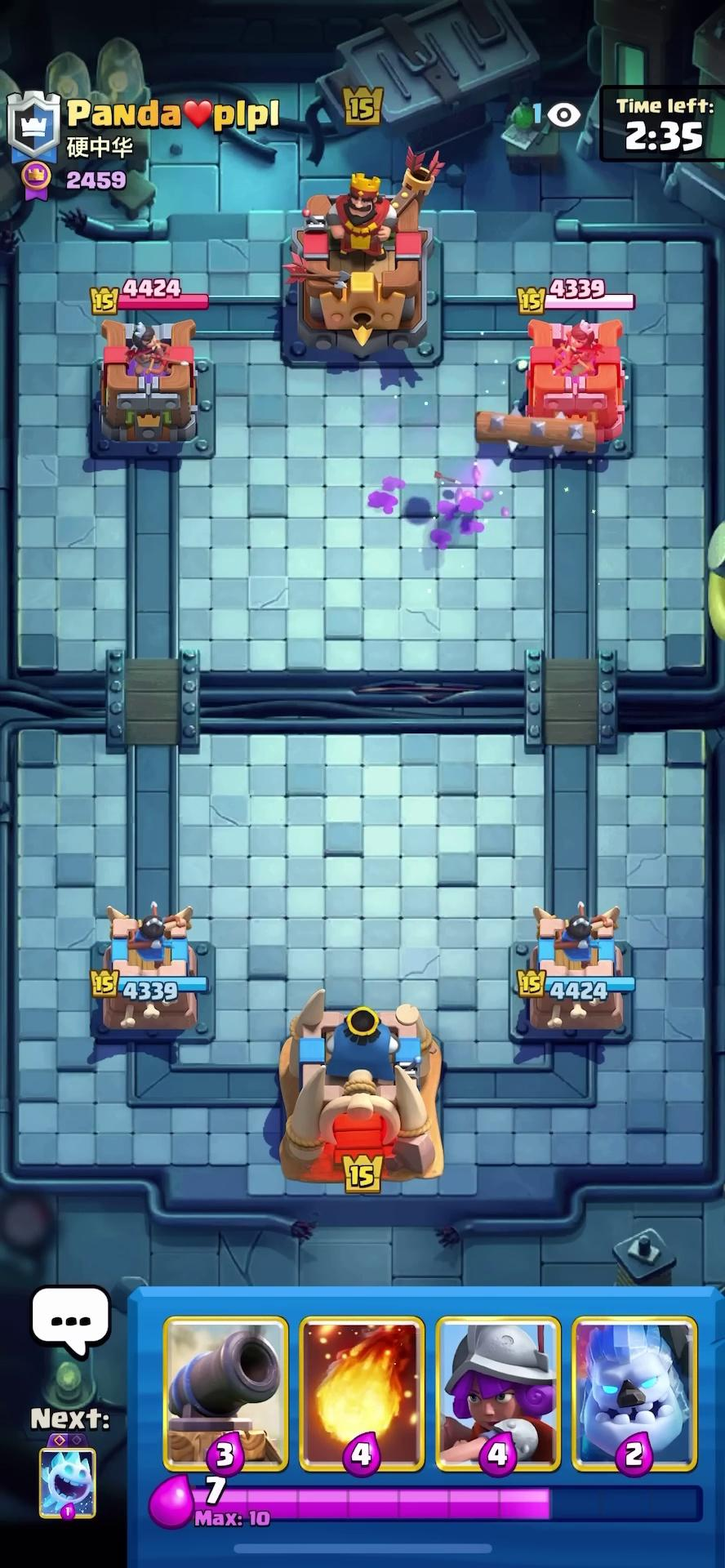log: (465, 394, 612, 476)
